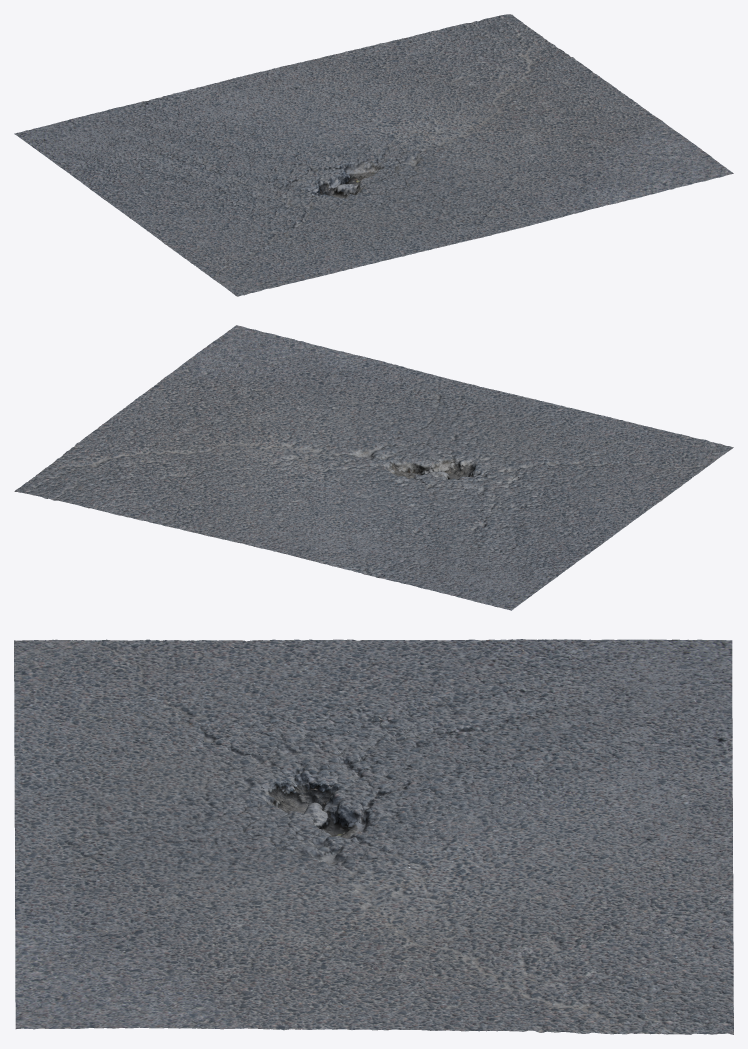
File: photoscan_-_pothole_1.glb
3 views of the same model, one above another, from view 1: azimuth 30°, elevation 25°; view 2: azimuth 150°, elevation 25°; view 3: azimuth 270°, elevation 25° (orthographic). The views are drawn at different scales.
Parts seen in each view (by area): view 1: Object_2, Object_3, Object_4; view 2: Object_2, Object_3, Object_4; view 3: Object_2, Object_3, Object_4.
Boxes of the visible parts, x1,y1,x2,y2 form: Object_2: (14,14,733,296); Object_3: (79,17,717,293); Object_4: (91,15,725,290); Object_2: (14,325,733,610); Object_3: (30,335,722,566); Object_4: (19,328,723,555); Object_2: (14,639,733,1034); Object_3: (14,641,731,1029); Object_4: (14,640,733,1034).
Size of the model in its own units: 2 by 0.0632 by 1.56.
Materials: 1 (1 with a texture image).
